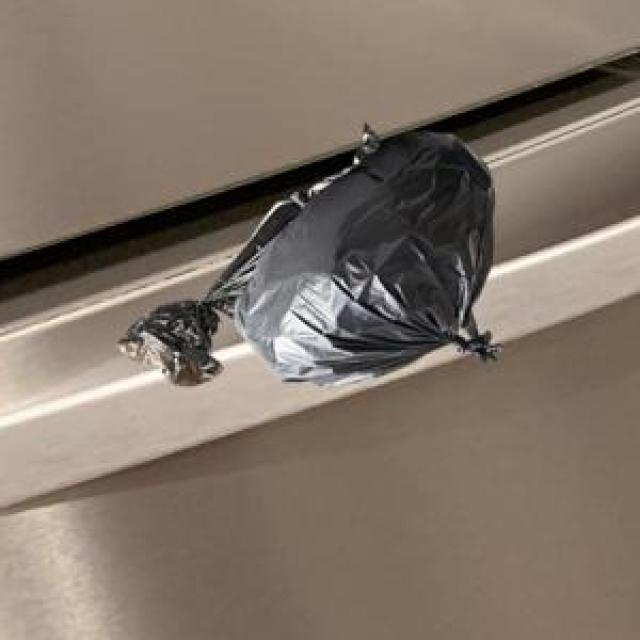Trashbag: (230, 127, 511, 385)
